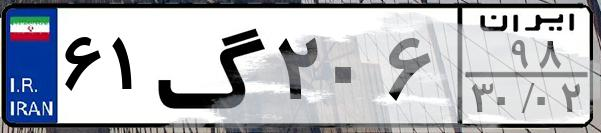0: (330, 28, 385, 110), (495, 70, 520, 125), (535, 70, 560, 125)
1: (110, 28, 156, 98)
2: (270, 28, 330, 110), (560, 70, 590, 125)
3: (470, 70, 495, 125)
6: (385, 28, 445, 110), (57, 26, 110, 100)
8: (537, 27, 568, 80)
9: (508, 27, 537, 80)
گ: (156, 12, 270, 120)
